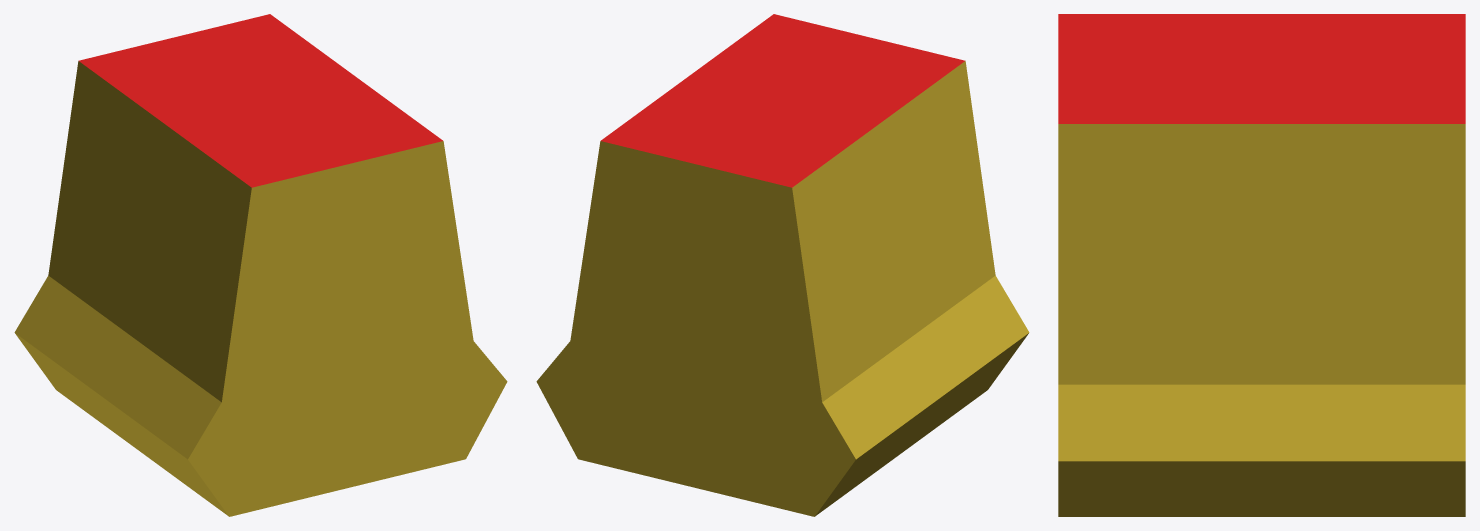
The model's file is MRO_bus_lowfidelity.dae.
The picture shows the model from 3 angles, left to right: view 1: azimuth 30°, elevation 25°; view 2: azimuth 150°, elevation 25°; view 3: azimuth 270°, elevation 25°; orthographic projection. The views are drawn at different scales.
Parts seen in each view (by area): view 1: MRO_bus_lowfidelity; view 2: MRO_bus_lowfidelity; view 3: MRO_bus_lowfidelity.
Part boxes in pixels (x1=…): MRO_bus_lowfidelity: x1=14, y1=14, x2=507, y2=516; MRO_bus_lowfidelity: x1=536, y1=14, x2=1029, y2=516; MRO_bus_lowfidelity: x1=1058, y1=14, x2=1465, y2=516.
Size of the model in its own units: 2.5 by 2.35 by 2.42.
